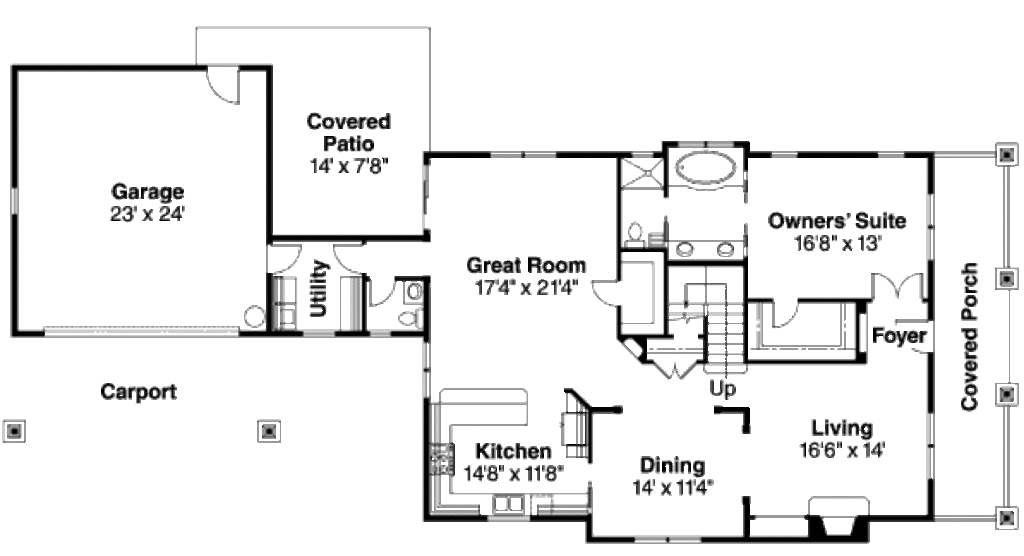door: (863, 268, 935, 306), (198, 61, 250, 113), (260, 232, 311, 275), (321, 236, 372, 275), (894, 318, 940, 357), (583, 275, 622, 313), (366, 274, 403, 310), (767, 295, 803, 331), (649, 356, 703, 380)
large_sink: (395, 304, 428, 331), (621, 217, 646, 250)
small_sink: (671, 239, 746, 263), (403, 280, 429, 305)
stairs: (665, 264, 746, 380)
tub: (665, 147, 748, 192)
twin_sink: (488, 490, 538, 522)
window: (637, 528, 707, 550), (490, 145, 567, 162), (926, 194, 940, 267), (7, 188, 24, 220)
